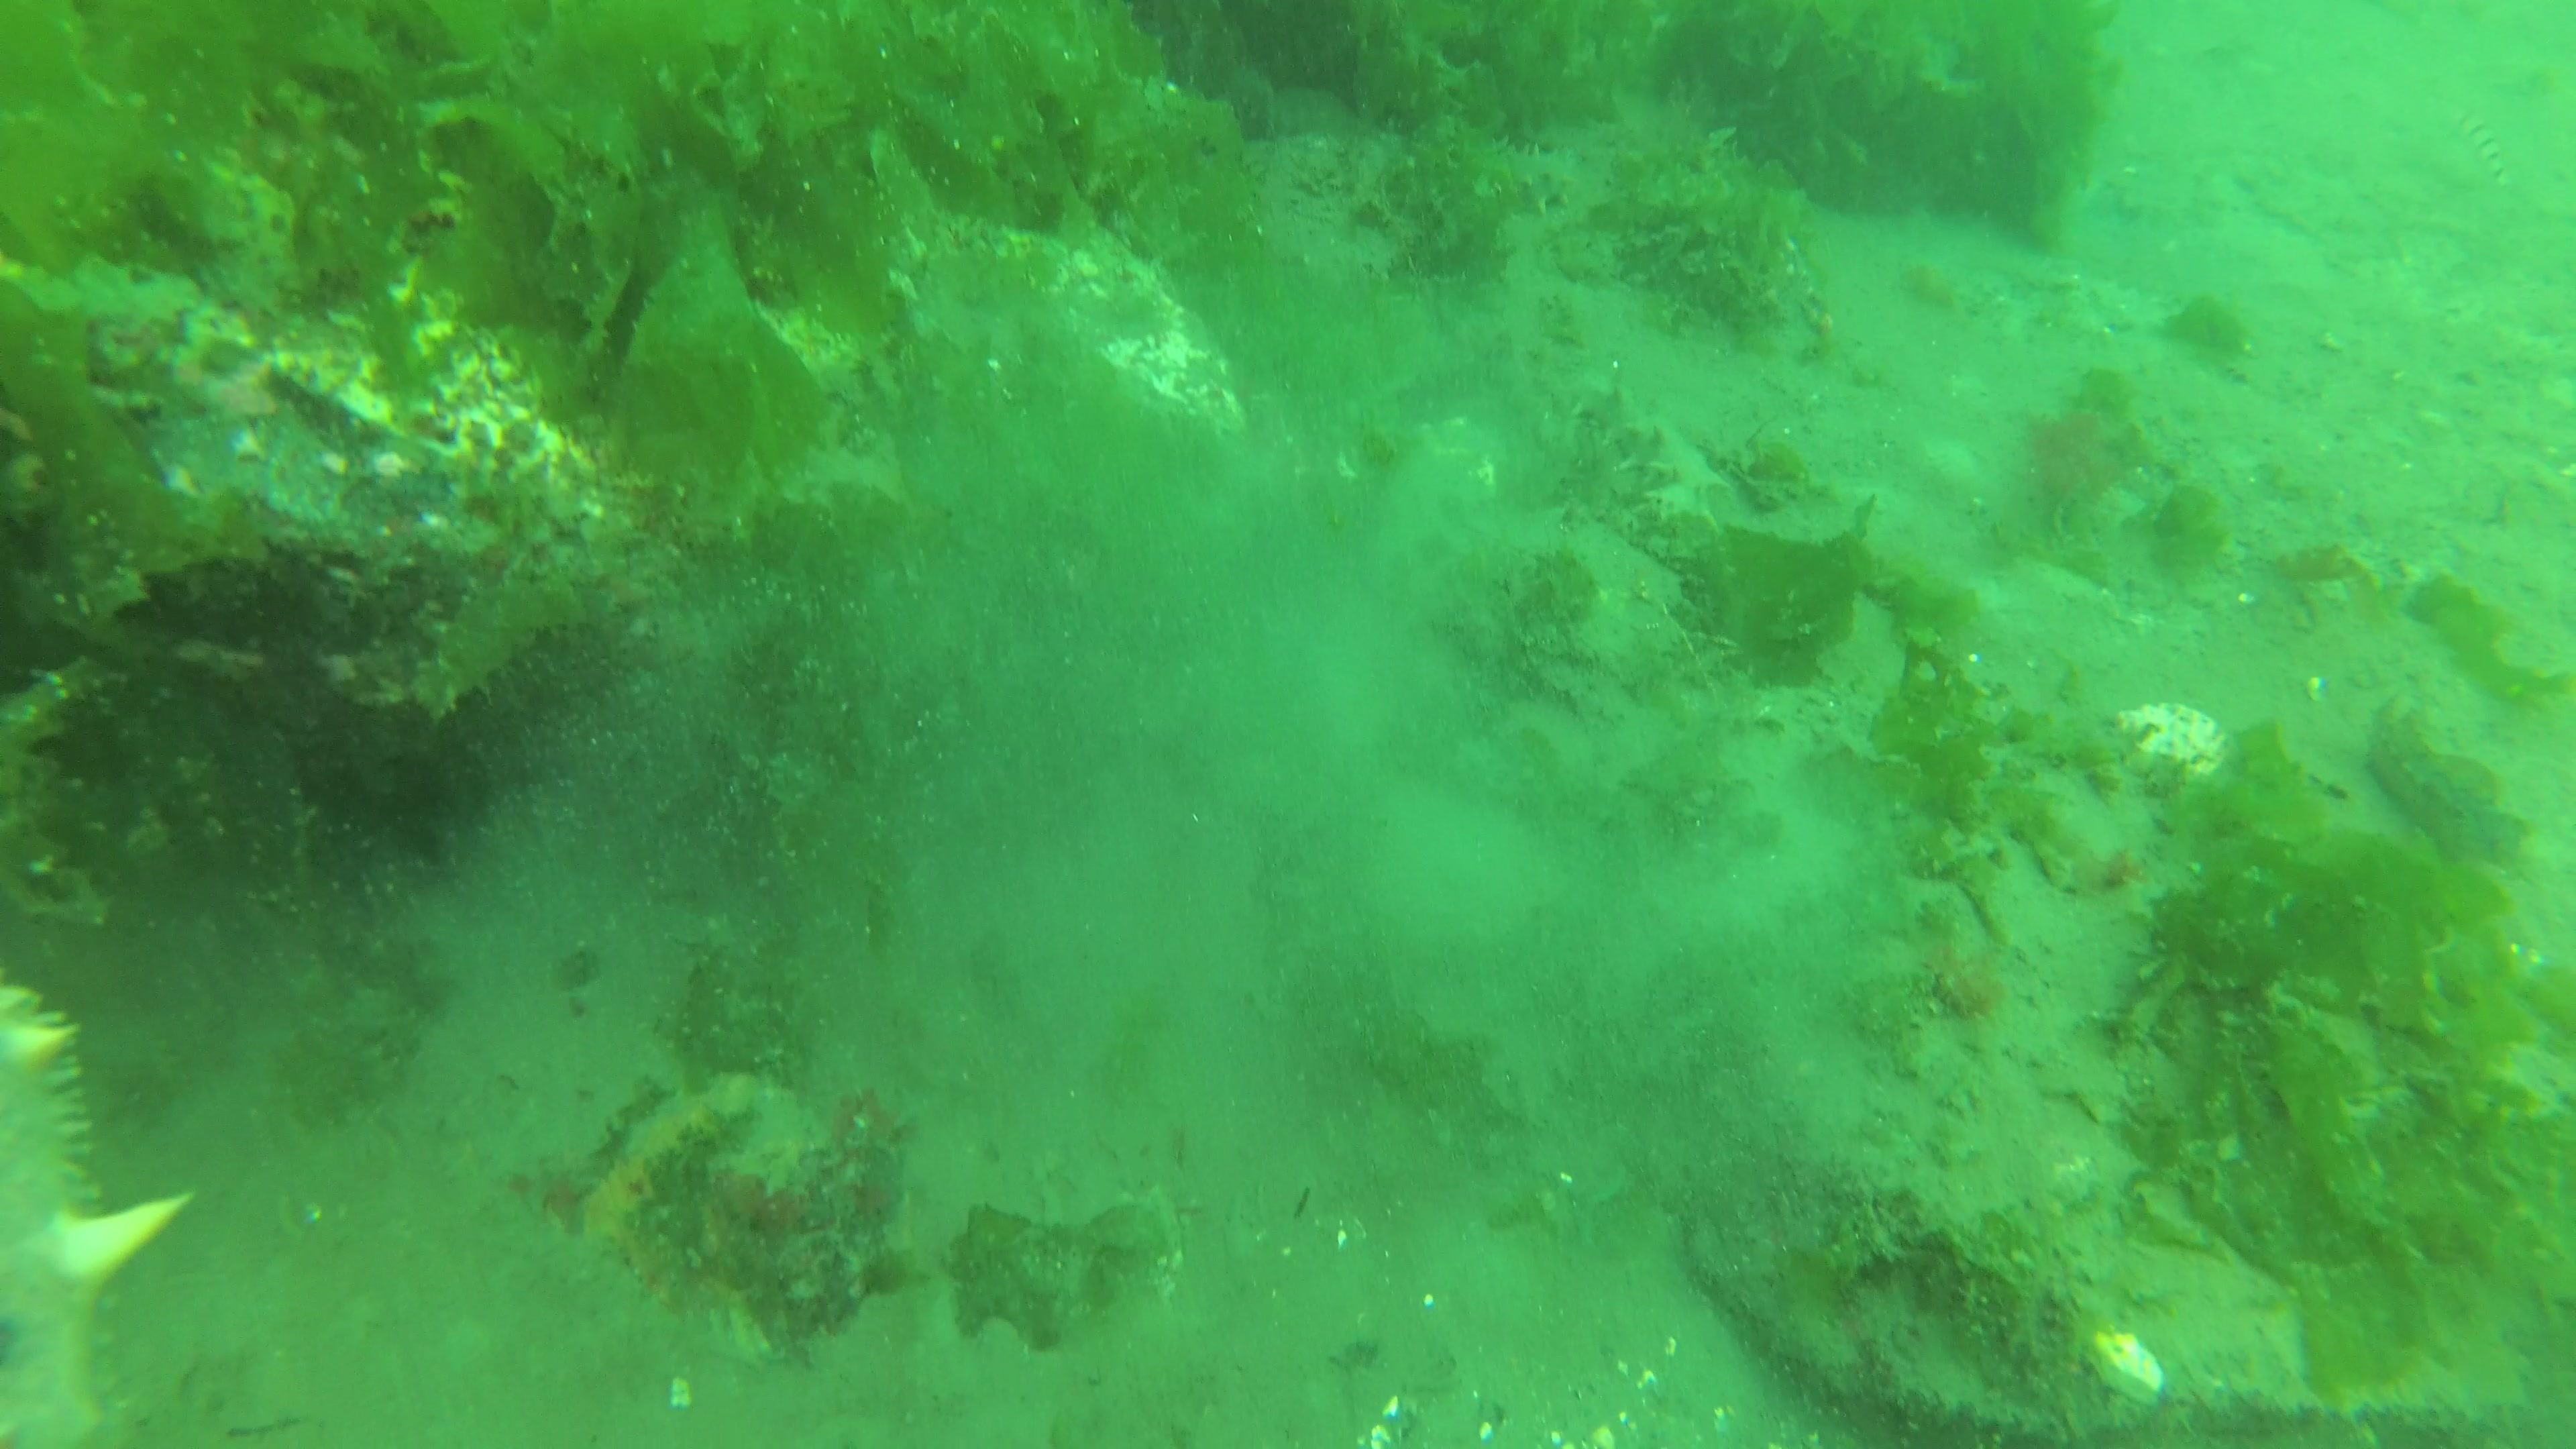holothurian: (0, 987, 191, 1449), (1545, 373, 1730, 536), (1474, 127, 1585, 218)
scallop: (2118, 702, 2235, 771)
